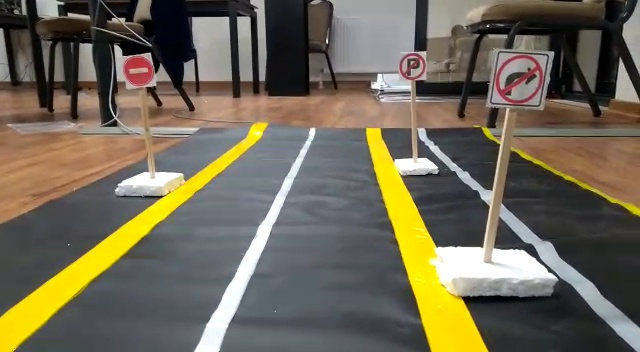girisi_olmayan_yol: (123, 54, 155, 87)
park_yapilmaz: (399, 52, 428, 80)
saga_donulmez: (496, 49, 544, 105)
